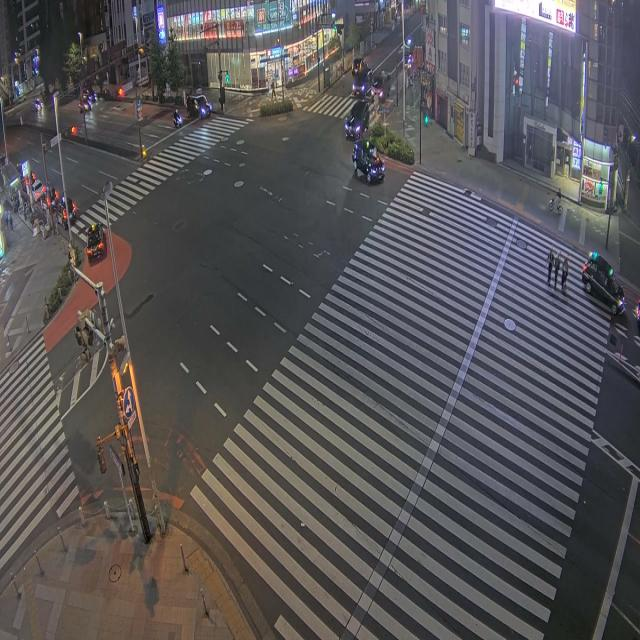car: (582, 252, 624, 314), (352, 140, 384, 183), (345, 100, 369, 139), (86, 224, 105, 261), (371, 72, 390, 99), (353, 69, 372, 95), (195, 96, 213, 118), (55, 204, 68, 229), (32, 180, 45, 201), (352, 58, 366, 77), (83, 89, 96, 103), (79, 97, 91, 112), (33, 98, 43, 113), (636, 301, 639, 328)
motorcycle: (173, 114, 182, 128)
